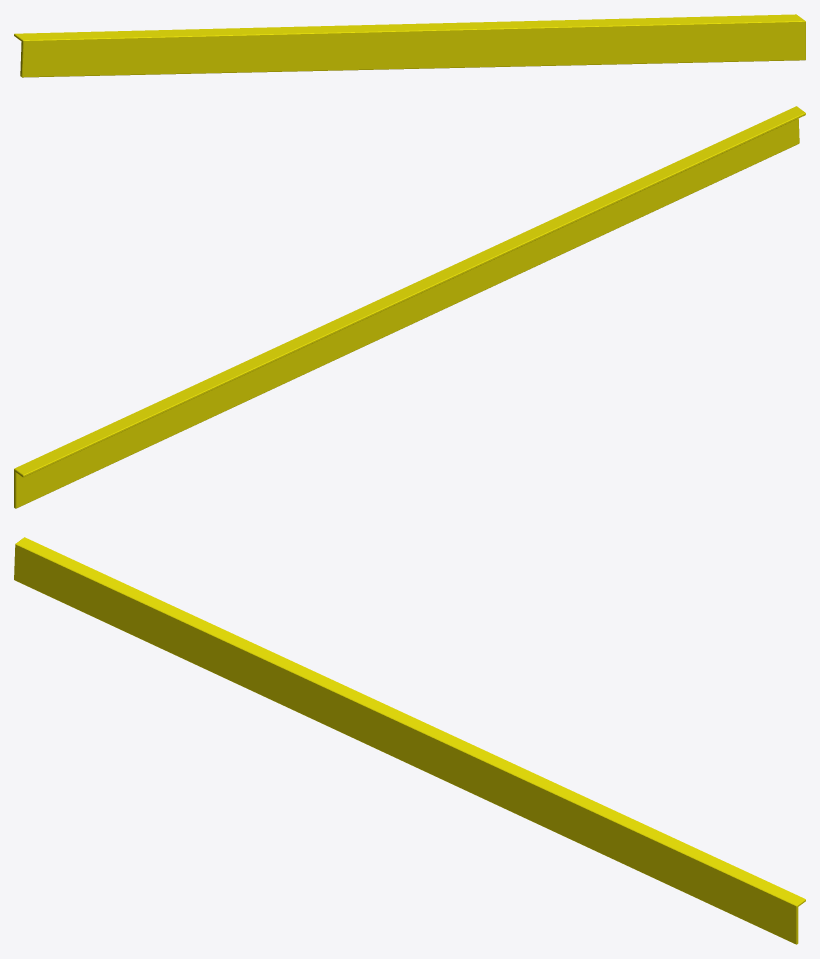
File: Wide_Edge_Metal_Left_Right.fbx
3 views of the same model, one above another, from view 1: azimuth 30°, elevation 25°; view 2: azimuth 210°, elevation 25°; view 3: azimuth 330°, elevation 25° (orthographic).
Parts seen in each view (by area): view 1: Wide_Edge_Metal_Left_Right; view 2: Wide_Edge_Metal_Left_Right; view 3: Wide_Edge_Metal_Left_Right.
Boxes of the visible parts, x1,y1,x2,y2 form: Wide_Edge_Metal_Left_Right: [14, 14, 805, 77]; Wide_Edge_Metal_Left_Right: [14, 106, 805, 508]; Wide_Edge_Metal_Left_Right: [14, 537, 805, 944].
Bounding box in the file's own units: 131 × 33.75 × 2.75.
